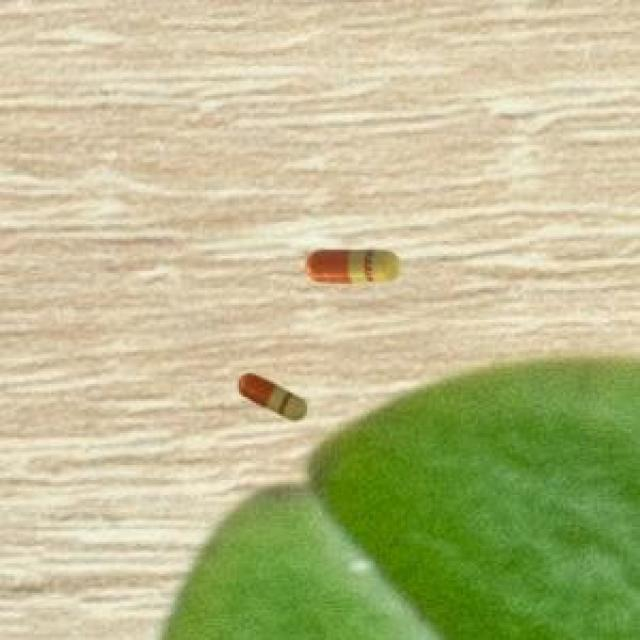Alaxan: (297, 234, 407, 298), (228, 363, 317, 429)
